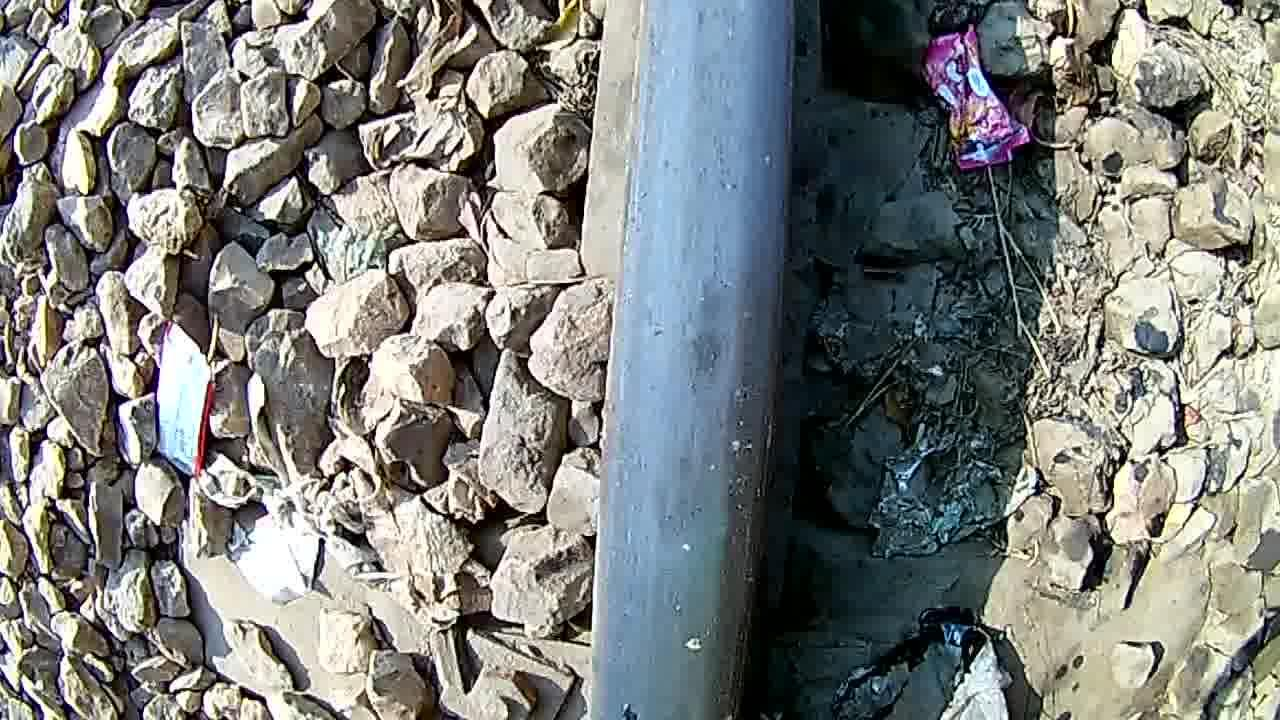bolt_missing: (608, 229, 793, 641)
